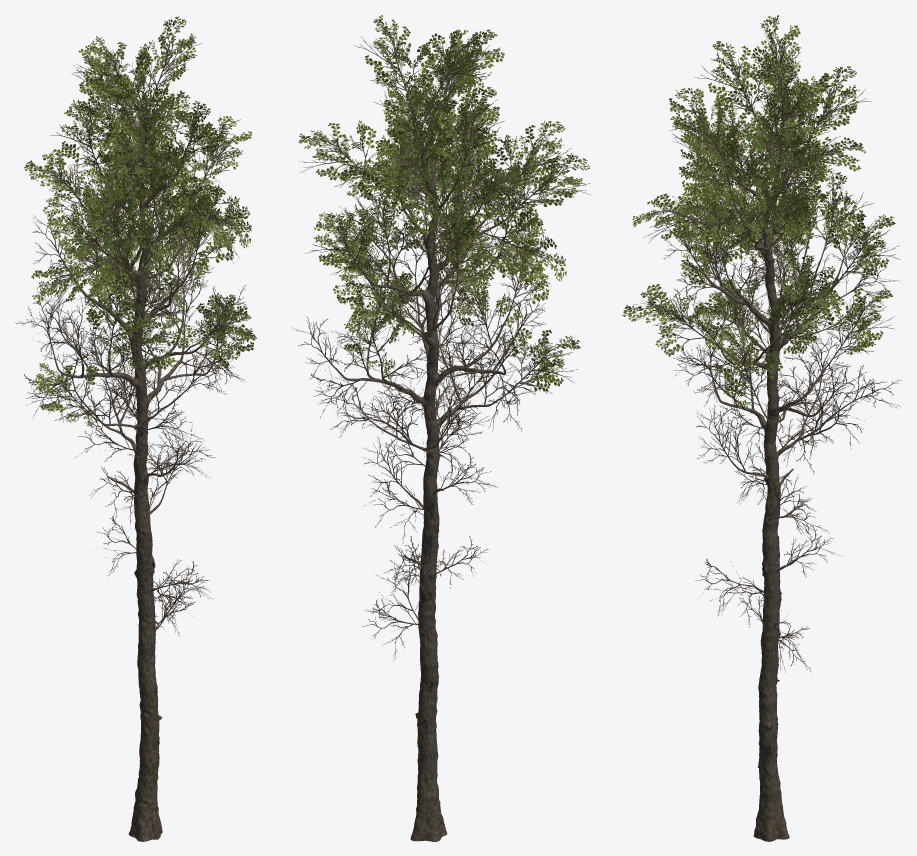
The model's file is SM_BlackAlder_Forest_02_PP_LOD1.gltf.
3 views of the same model, side by side, from view 1: azimuth 30°, elevation 25°; view 2: azimuth 150°, elevation 25°; view 3: azimuth 270°, elevation 25° (orthographic). The views are drawn at different scales.
Visible parts, largest first — view 1: SM_BlackAlder_Forest_02_PP; view 2: SM_BlackAlder_Forest_02_PP; view 3: SM_BlackAlder_Forest_02_PP.
Part boxes in pixels (x1,y1,x2,y2): SM_BlackAlder_Forest_02_PP: [15, 16, 257, 841]; SM_BlackAlder_Forest_02_PP: [292, 15, 590, 841]; SM_BlackAlder_Forest_02_PP: [622, 15, 901, 841].
Bounding box in the file's own units: 6.33 × 19.84 × 6.37.
3 materials, 3 textured.
